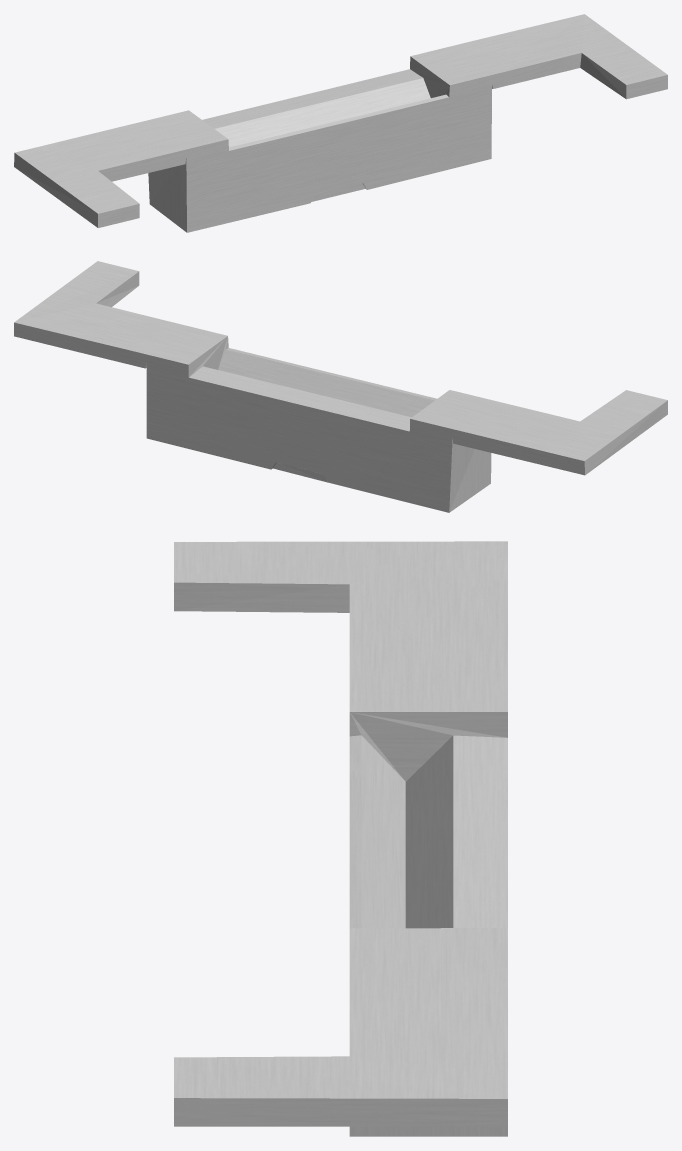
The model's file is element_ruchomy.glb.
The picture shows the model from 3 angles, top to bottom: view 1: azimuth 30°, elevation 25°; view 2: azimuth 150°, elevation 25°; view 3: azimuth 270°, elevation 25°; orthographic projection. The views are drawn at different scales.
Visible parts, largest first — view 1: Element Ruchomy; view 2: Element Ruchomy; view 3: Element Ruchomy.
Part boxes in pixels (x1,y1,x2,y2): Element Ruchomy: (14,14,667,232); Element Ruchomy: (14,261,667,512); Element Ruchomy: (174,541,507,1136).
Size of the model in its own units: 1.14 by 0.162 by 0.2891.
Materials: 1 (1 with a texture image).
